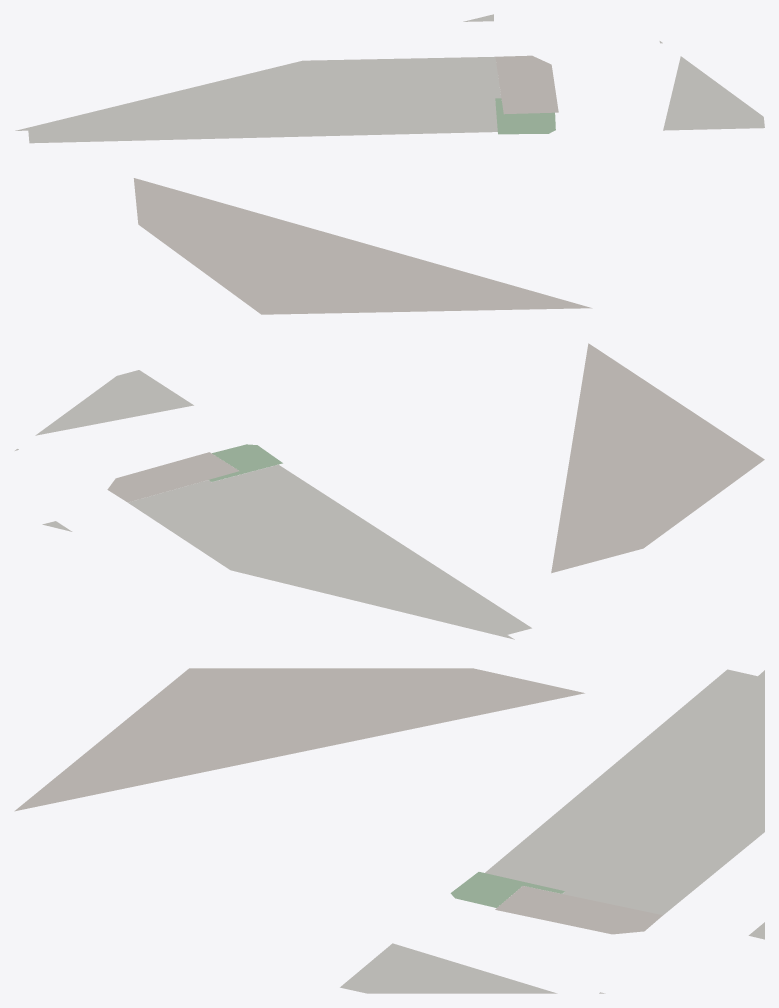
The model's file is 100_91_mid.glb.
3 renders of one model, top to bottom at view 1: azimuth 30°, elevation 25°; view 2: azimuth 150°, elevation 25°; view 3: azimuth 270°, elevation 25°, orthographic. The views are drawn at different scales.
Bounding box in the file's own units: 500 × 0.3334 × 488.
